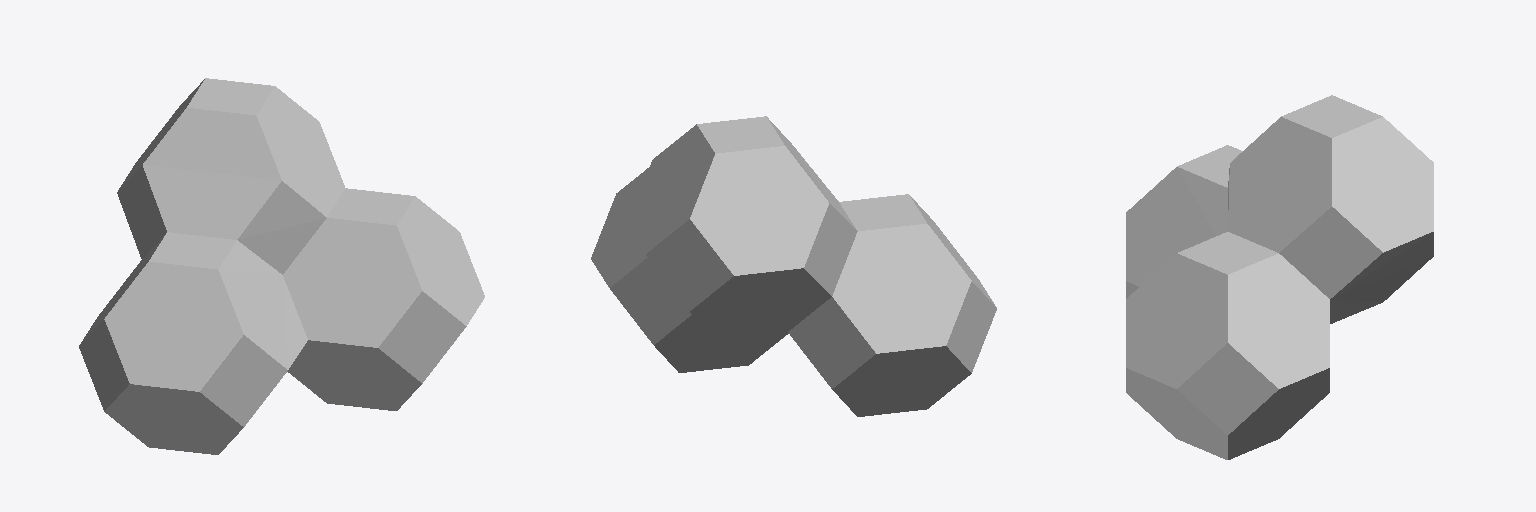
File: fcc3.obj
3 renders of one model, left to right at view 1: azimuth 30°, elevation 25°; view 2: azimuth 150°, elevation 25°; view 3: azimuth 270°, elevation 25°, orthographic.
Parts seen in each view (by area): view 1: Obj1_Mesh1, Obj3_Mesh3, Obj2_Mesh2; view 2: Obj2_Mesh2, Obj1_Mesh1, Obj3_Mesh3; view 3: Obj3_Mesh3, Obj2_Mesh2, Obj1_Mesh1.
Part boxes in pixels (left/top/right/bottom): Obj1_Mesh1: left=79, top=232, right=307, bottom=454; Obj3_Mesh3: left=283, top=188, right=484, bottom=410; Obj2_Mesh2: left=117, top=78, right=345, bottom=274; Obj2_Mesh2: left=627, top=116, right=857, bottom=339; Obj1_Mesh1: left=788, top=194, right=996, bottom=416; Obj3_Mesh3: left=591, top=168, right=788, bottom=372; Obj3_Mesh3: left=1126, top=232, right=1329, bottom=459; Obj2_Mesh2: left=1228, top=95, right=1433, bottom=323; Obj1_Mesh1: left=1126, top=145, right=1242, bottom=298.
Size of the model in its own units: 2.43 by 1.83 by 1.83.